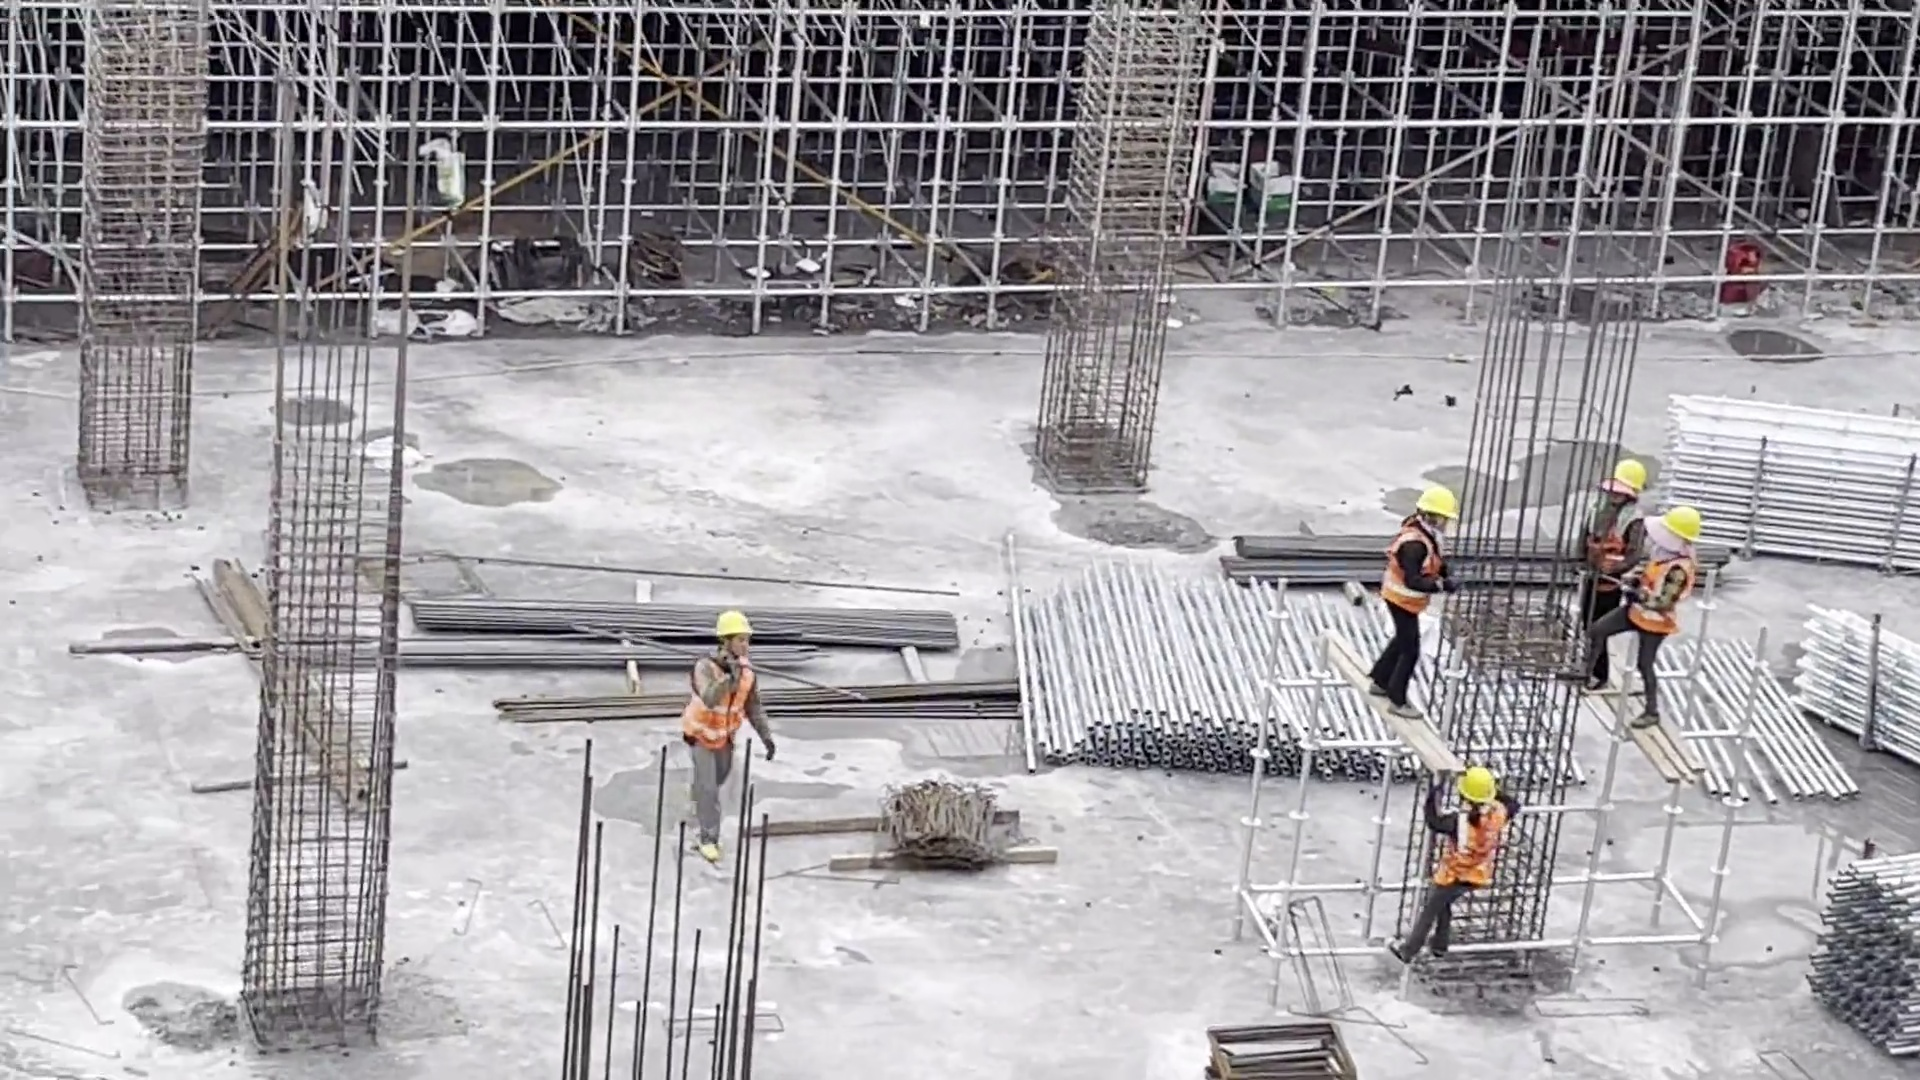helmet: (1414, 476, 1469, 522), (1665, 504, 1706, 547), (1459, 760, 1494, 808), (718, 600, 754, 644), (1614, 456, 1653, 492)
person: (1369, 461, 1465, 719), (678, 607, 769, 875), (1426, 752, 1518, 961), (1581, 445, 1638, 688), (1643, 502, 1692, 734)
rebar: (411, 586, 956, 668), (1233, 517, 1595, 597)
scaffold: (1009, 555, 1410, 785), (1676, 378, 1920, 592), (1786, 592, 1920, 769), (1823, 837, 1920, 1067)
vest: (683, 647, 758, 755), (1445, 799, 1509, 890), (1386, 526, 1446, 619), (1633, 556, 1690, 641)
